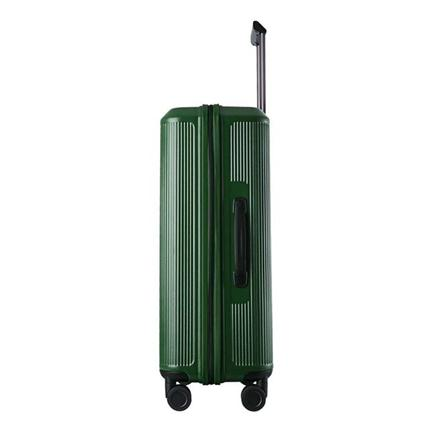luggage: (156, 20, 275, 411)
